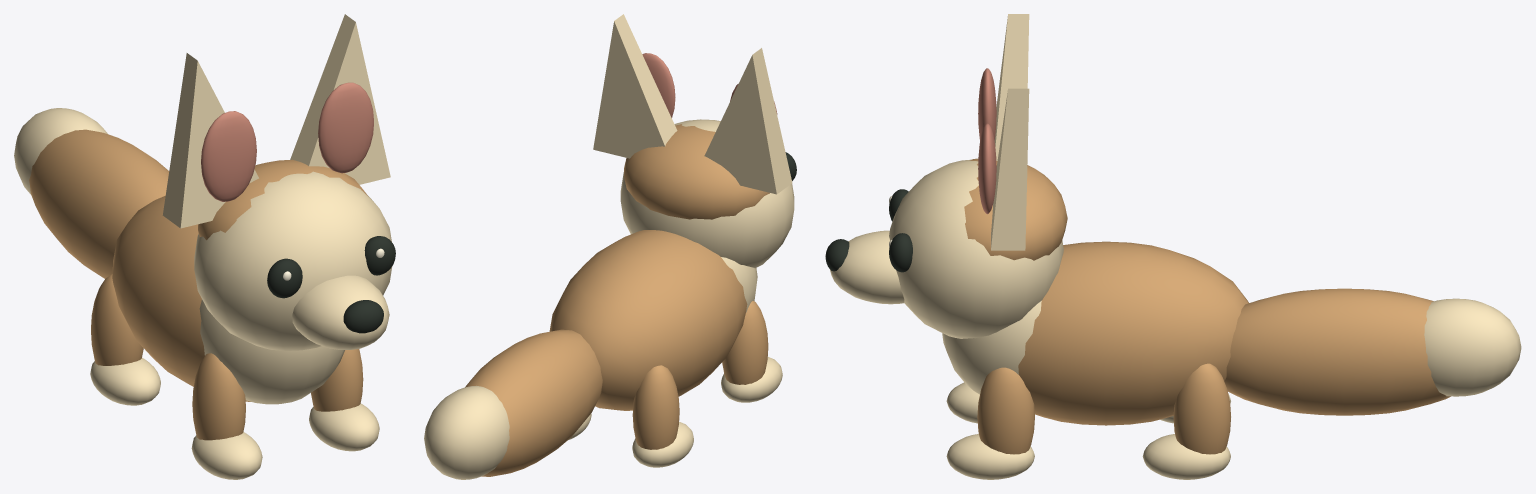
File: desert_fennec.glb
The picture shows the model from 3 angles, left to right: view 1: azimuth 30°, elevation 25°; view 2: azimuth 150°, elevation 25°; view 3: azimuth 270°, elevation 25°; orthographic projection. The views are drawn at different scales.
Visible parts, largest first — view 1: Head, Body, Tail, EarLeft, EarRight, Foot0, Foot2, Foot1; view 2: Body, Tail, Head, EarRight, EarLeft, Foot2, Foot0; view 3: Body, Tail, Head, Foot3, Foot1, EarRight, EarLeft, Foot0.
Part boxes in pixels (x1,y1,x2,y2): Head: [194, 159, 395, 350]; Body: [112, 196, 344, 404]; Tail: [14, 108, 169, 278]; EarLeft: [162, 53, 258, 228]; EarRight: [290, 14, 390, 184]; Foot0: [191, 353, 262, 479]; Foot2: [90, 274, 160, 405]; Foot1: [309, 349, 379, 451]; Body: [549, 230, 757, 410]; Tail: [424, 329, 602, 479]; Head: [620, 119, 796, 268]; EarRight: [593, 14, 677, 158]; EarLeft: [704, 48, 792, 194]; Foot2: [632, 365, 693, 467]; Foot0: [721, 301, 782, 402]; Body: [942, 241, 1248, 425]; Tail: [1224, 288, 1521, 415]; Head: [825, 158, 1067, 338]; Foot3: [1142, 363, 1230, 479]; Foot1: [946, 367, 1034, 479]; EarRight: [978, 88, 1029, 250]; EarLeft: [978, 14, 1029, 160]; Foot0: [946, 382, 979, 423].
Size of the model in its own units: 0.61 by 1.14 by 1.81.
